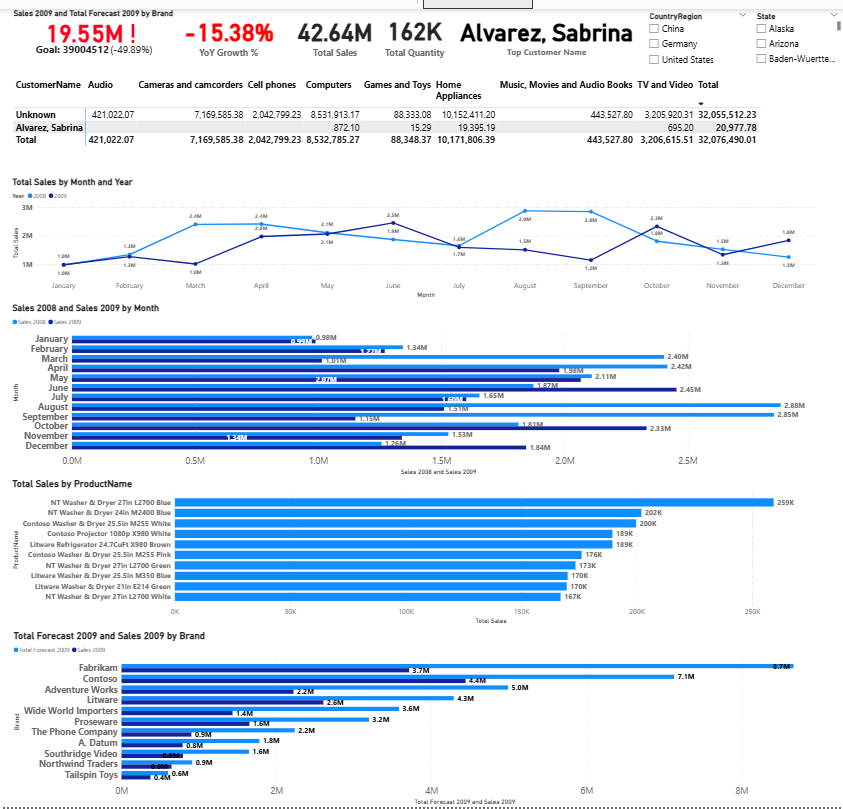

The page's visual inventory and layout, read from the dashboard file:
{"tool":"powerbi","page":{"name":"Page 1","canvas":[1900,1800],"ordinal":0},"visuals":[{"type":"card","fields":{"Values":["fact_sales.Total Sales"]},"box":[653.3,0,203.3,120],"z":0},{"type":"card","fields":{"Values":["fact_sales.YoY Growth %"]},"box":[376.7,0,276.7,120],"z":1000},{"type":"card","fields":{"Values":["fact_sales.Total Quantity"]},"box":[856.7,0,156.7,116.7],"z":2000},{"type":"lineChart","fields":{"Category":["dim_date.Date.Variation.Date Hierarchy.Month"],"Y":["fact_sales.Total Sales"],"Series":["dim_date.Date.Variation.Date Hierarchy.Year"]},"box":[23.3,376.7,1820,280],"z":3000},{"type":"clusteredBarChart","fields":{"Category":["dim_date.Date.Variation.Date Hierarchy.Month"],"Y":["fact_sales.Sales 2008","fact_sales.Sales 2009"]},"box":[23.3,663.3,1820,393.3],"z":4000},{"type":"barChart","fields":{"Category":["dim_product.ProductName"],"Y":["fact_sales.Total Sales"]},"box":[23.3,1056.7,1820,336.7],"z":5000},{"type":"clusteredBarChart","fields":{"Y":["fact_sales.Total Forecast 2009","fact_sales.Sales 2009"],"Category":["dim_product.Brand"]},"box":[26.7,1400,1816.7,400],"z":6000},{"type":"pivotTable","fields":{"Rows":["dim_customer.CustomerName"],"Columns":["dim_product.Category"],"Values":["fact_sales.Total Sales"]},"box":[26.7,150,1816.7,196.7],"z":7000},{"type":"card","fields":{"Values":["dim_customer.Top Customer Name"]},"box":[1013.3,0,436.7,116.7],"z":8000},{"type":"kpi","fields":{"Goal":["fact_sales.Total Forecast 2009"],"Indicator":["fact_sales.Sales 2009"],"TrendLine":["fact_forecast.Brand"]},"box":[26.7,0,373.3,120],"z":9000},{"type":"slicer","fields":{"Values":["dim_customer.CountryRegion"]},"box":[1450,0,243.3,140],"z":10000},{"type":"slicer","fields":{"Values":["dim_customer.State"]},"box":[1693.3,0,206.7,140],"z":11000}]}

Visuals, with their boxes in screenshot pixels (x1, y1, x2, y2), scaled from the page's 1900x1800 canvas onto the 843x809 screenshot:
card - fact_sales.Total Sales: l=290, t=0, r=380, b=54
card - fact_sales.YoY Growth %: l=167, t=0, r=290, b=54
card - fact_sales.Total Quantity: l=380, t=0, r=450, b=52
lineChart - dim_date.Date.Variation.Date Hierarchy.Month x fact_sales.Total Sales: l=10, t=169, r=818, b=295
clusteredBarChart - dim_date.Date.Variation.Date Hierarchy.Month x fact_sales.Sales 2008: l=10, t=298, r=818, b=475
barChart - dim_product.ProductName x fact_sales.Total Sales: l=10, t=475, r=818, b=626
clusteredBarChart - fact_sales.Total Forecast 2009 x fact_sales.Sales 2009: l=12, t=629, r=818, b=808
pivotTable - dim_customer.CustomerName x dim_product.Category: l=12, t=67, r=818, b=156
card - dim_customer.Top Customer Name: l=450, t=0, r=643, b=52
kpi - fact_sales.Total Forecast 2009 x fact_sales.Sales 2009: l=12, t=0, r=177, b=54
slicer - dim_customer.CountryRegion: l=643, t=0, r=751, b=63
slicer - dim_customer.State: l=751, t=0, r=842, b=63
